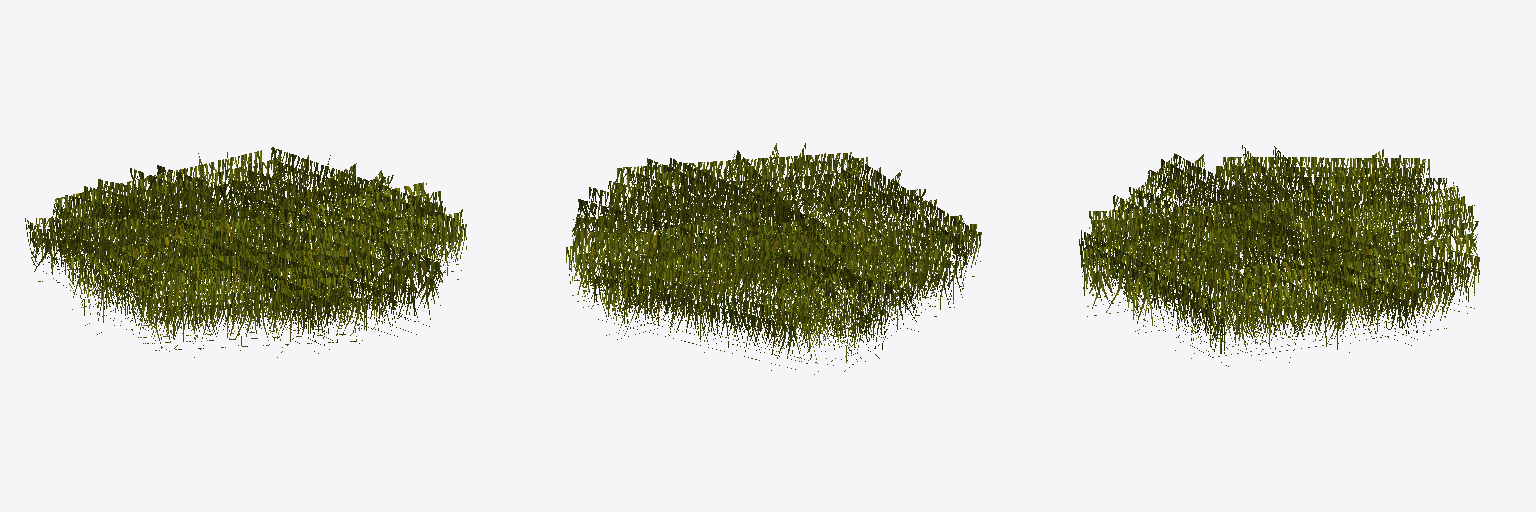
3 renders of one model, left to right at view 1: azimuth 30°, elevation 25°; view 2: azimuth 150°, elevation 25°; view 3: azimuth 270°, elevation 25°, orthographic.
Parts seen in each view (by area): view 1: Mesh2_Detailed_2, Mesh1_Simple_1; view 2: Mesh2_Detailed_2, Mesh1_Simple_1; view 3: Mesh2_Detailed_2, Mesh1_Simple_1.
Boxes of the visible parts, x1=… form: Mesh2_Detailed_2: x1=25, y1=147, x2=462, y2=357; Mesh1_Simple_1: x1=49, y1=155, x2=466, y2=350; Mesh2_Detailed_2: x1=566, y1=143, x2=976, y2=374; Mesh1_Simple_1: x1=574, y1=143, x2=981, y2=370; Mesh2_Detailed_2: x1=1079, y1=146, x2=1479, y2=366; Mesh1_Simple_1: x1=1081, y1=145, x2=1478, y2=362.
Size of the model in its own units: 13.45 by 1.84 by 12.9.
Materials: 2 (1 with a texture image).